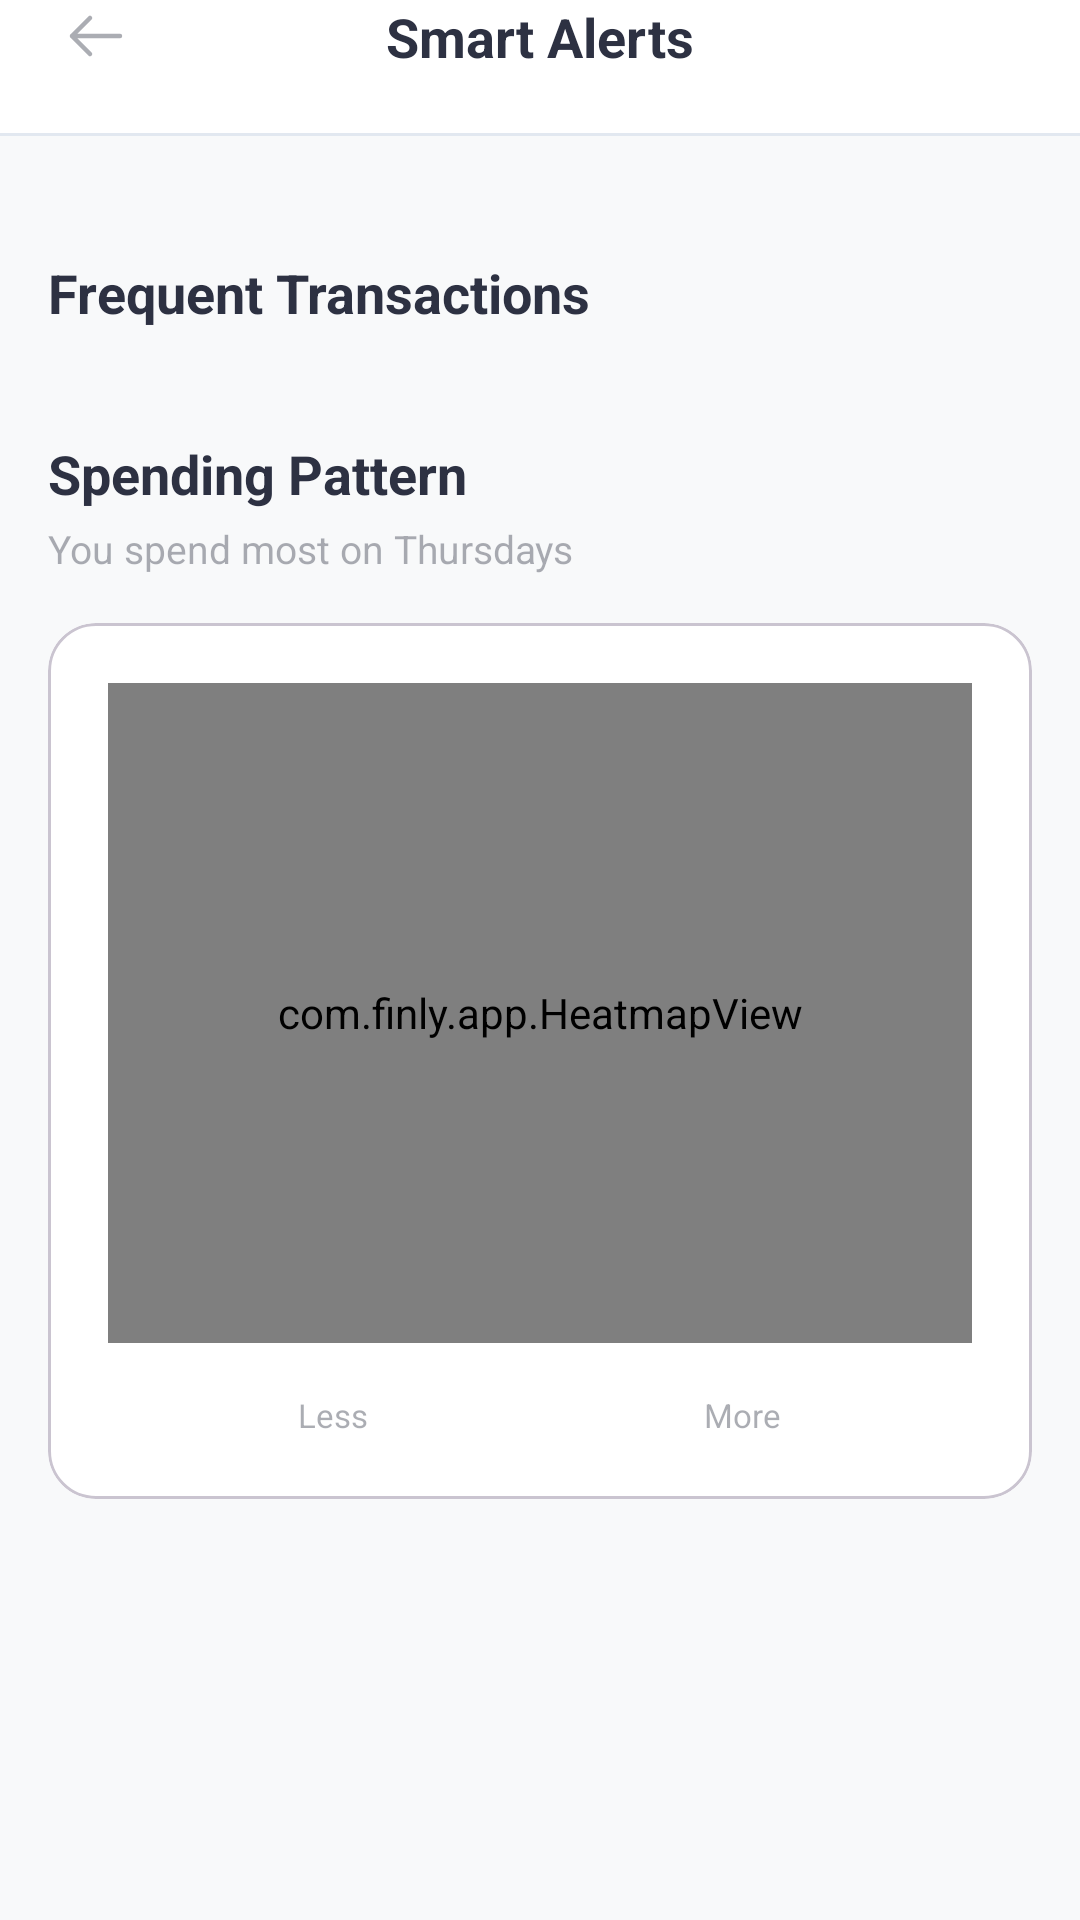

Point at icon controls on the screen. Image size 1080px x 1920px, points as (x=x, y=y).
arrow back: (x=96, y=36)
